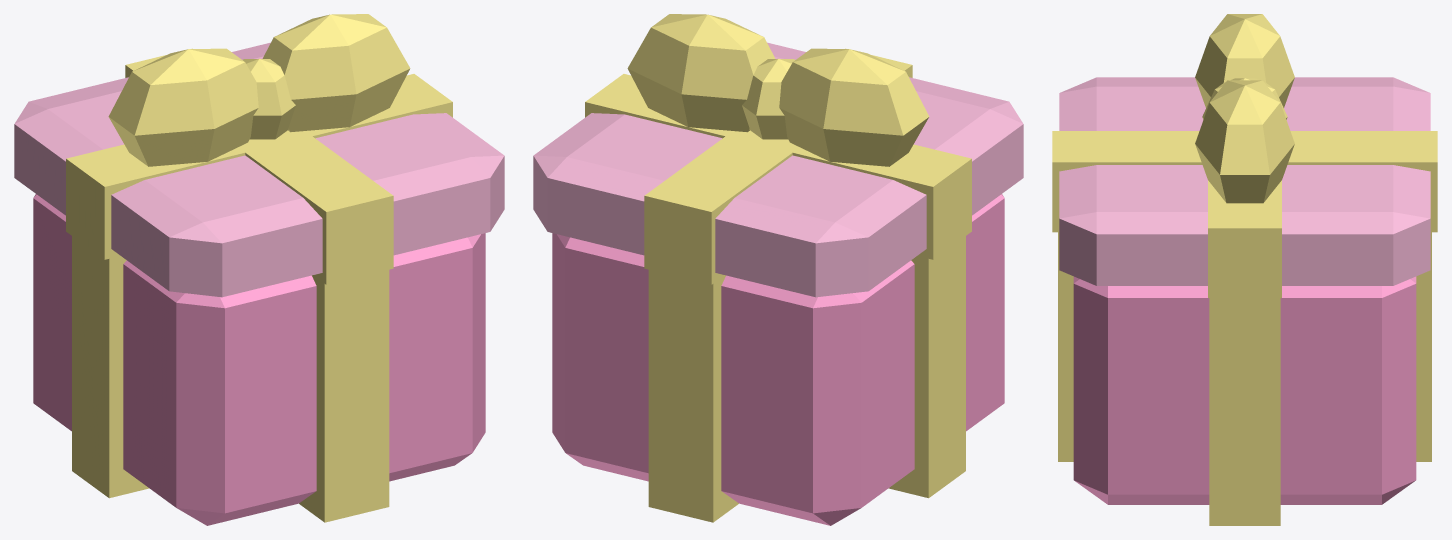
Rendered from CF_GiftBox.fbx.
3 renders of one model, left to right at view 1: azimuth 30°, elevation 25°; view 2: azimuth 150°, elevation 25°; view 3: azimuth 270°, elevation 25°, orthographic. The views are drawn at different scales.
Parts seen in each view (by area): view 1: CF_GiftBox_Ribbon, CF_GiftBox_Box, CF_GiftBox_Lid; view 2: CF_GiftBox_Ribbon, CF_GiftBox_Box, CF_GiftBox_Lid; view 3: CF_GiftBox_Box, CF_GiftBox_Ribbon, CF_GiftBox_Lid.
Boxes of the visible parts, x1,y1,x2,y2 form: CF_GiftBox_Ribbon: (66,14,452,522); CF_GiftBox_Box: (33,194,485,525); CF_GiftBox_Lid: (14,42,504,297); CF_GiftBox_Ribbon: (585,14,971,522); CF_GiftBox_Box: (552,194,1004,525); CF_GiftBox_Lid: (533,42,1023,297); CF_GiftBox_Box: (1073,276,1416,504); CF_GiftBox_Ribbon: (1052,14,1437,525); CF_GiftBox_Lid: (1059,77,1430,285).
Bounding box in the file's own units: 2.7 × 3.05 × 2.7.
